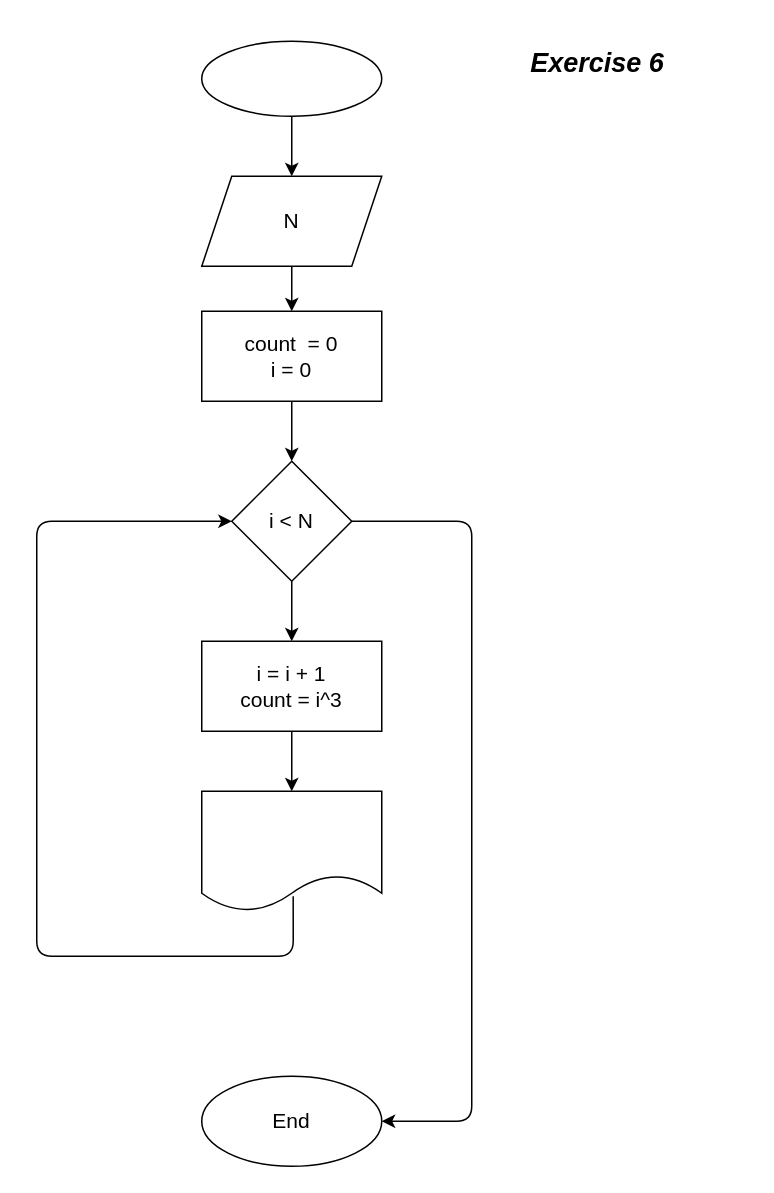
Image size: 774x1193. Some labels were removed from this diagram. Here are the shapes that lost their labels. From the top down, the centre of each, then its label:
At (x=291, y=78): "Start".
At (x=291, y=850): "Count".
